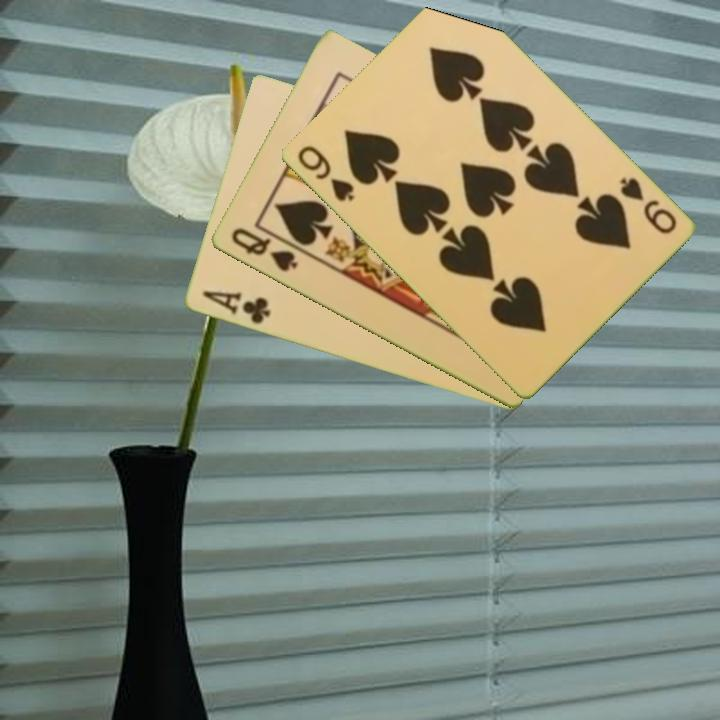9s: (615, 173, 679, 237), (293, 142, 357, 205)
Ac: (198, 287, 273, 327)
Qs: (227, 224, 301, 275)
